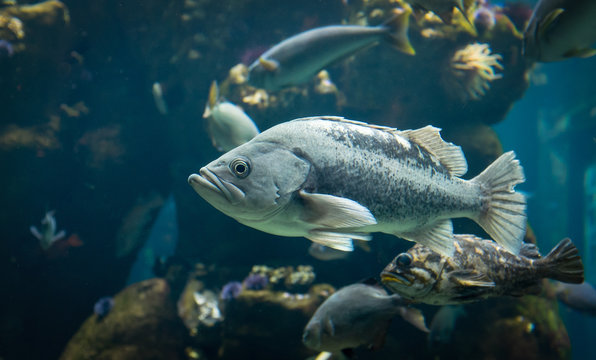Rock Fish: (194, 63, 577, 296)
